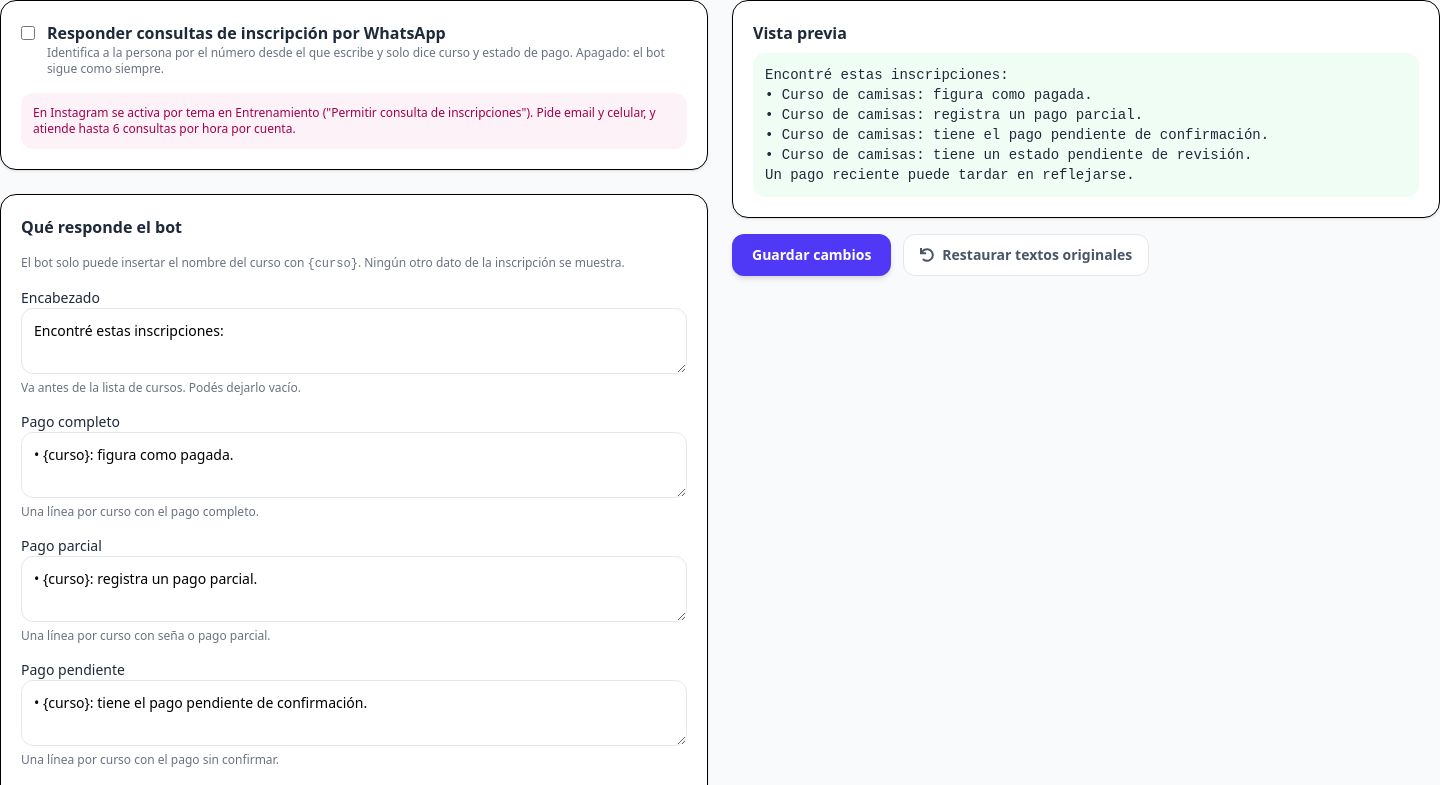
Scenario: EnrollmentSettings › blocks saving a status line that does not name the course
Replace the text in the text box labelled "Pago completo" with "Está pago": (354, 465) [21,432,687,498]
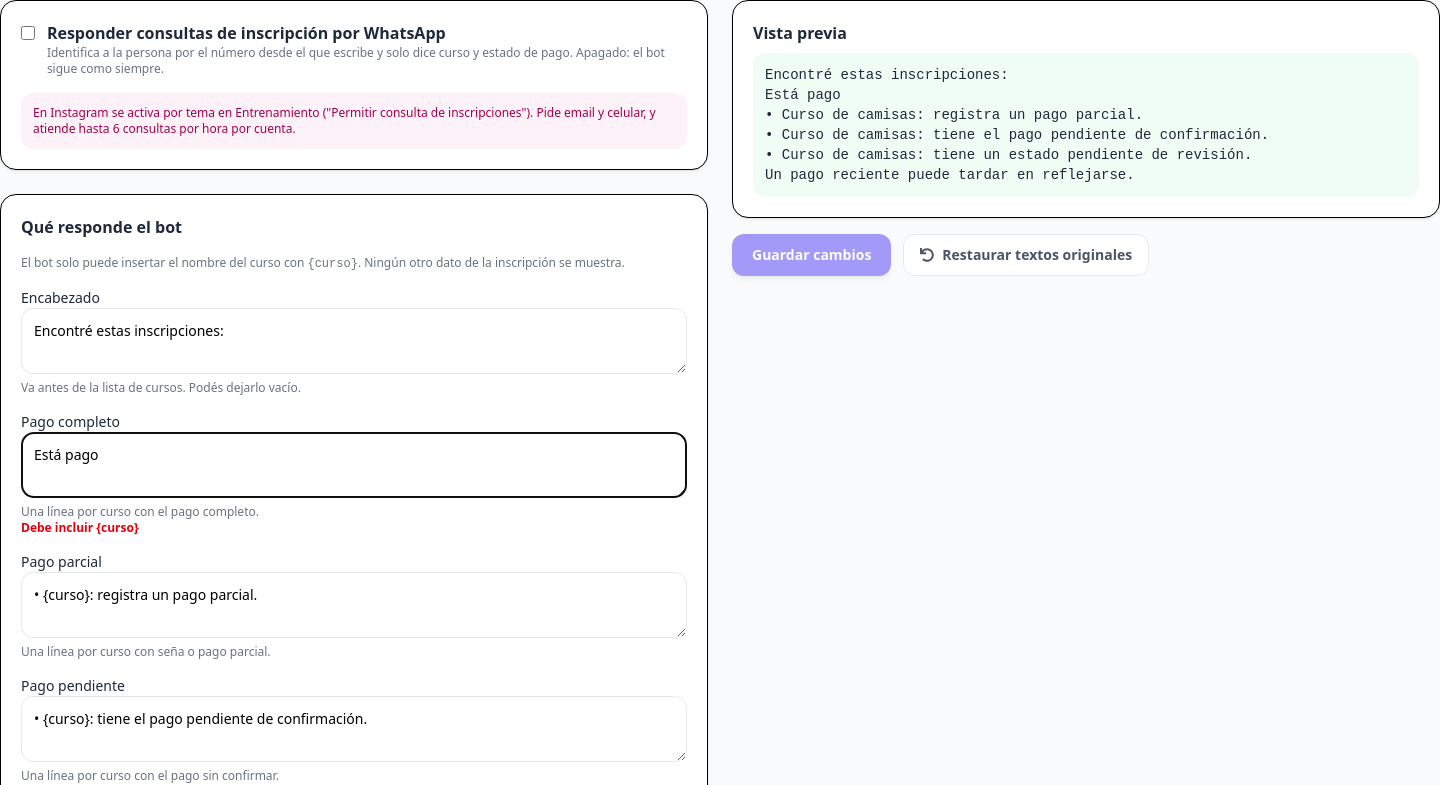
Expected: the button "Guardar cambios" is disabled, [732,234,891,276]
Expected: the text "Debe incluir {curso}" is shown, [21,519,139,536]
